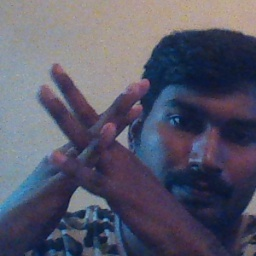W: (25, 56, 166, 211)
